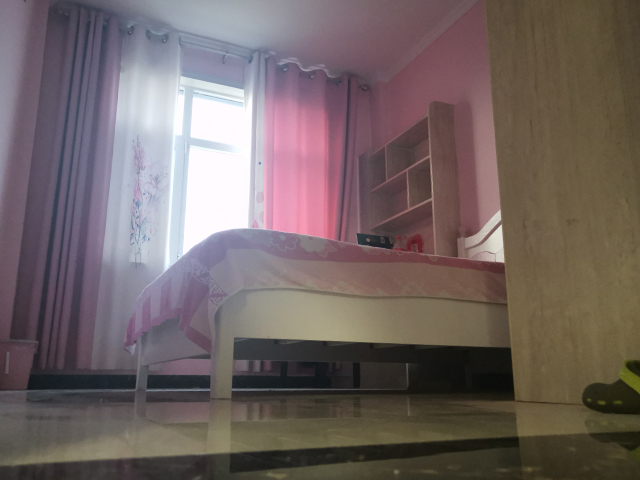bed: (122, 208, 508, 407)
cabinet: (485, 1, 640, 408)
curtain: (6, 1, 185, 376), (245, 51, 360, 244)
slippers: (579, 360, 640, 416)
trashcan: (1, 334, 45, 393)
